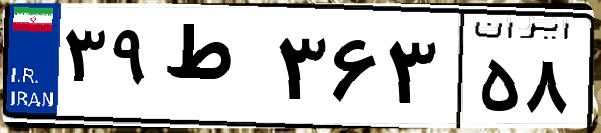3: (270, 28, 330, 110), (385, 28, 445, 110), (57, 26, 110, 100)
5: (475, 38, 525, 113)
6: (330, 28, 385, 110)
8: (525, 38, 570, 115)
9: (110, 28, 158, 98)
ط: (158, 20, 270, 120)
